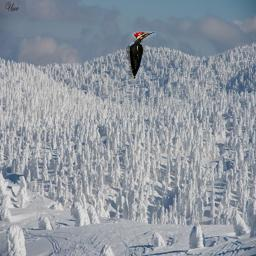Woodpecker: (126, 31, 156, 79)
